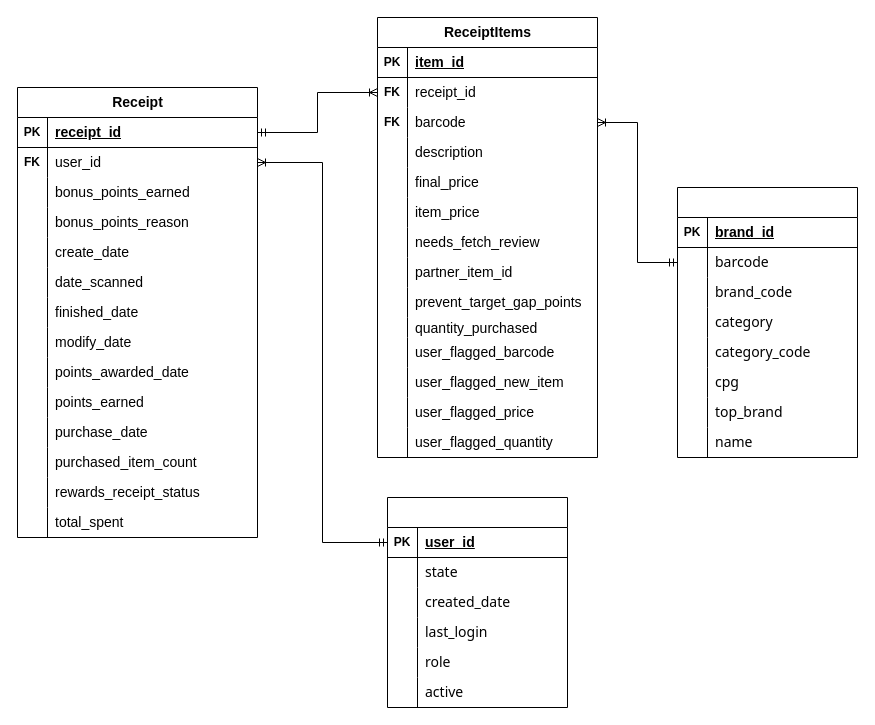
This 875x725 diagram has some shape labels left out. The box of each missing label's shape, as (x1, y1, x2, y2) in pixels:
Brands: (676, 186, 858, 458)
Users: (386, 496, 568, 708)
